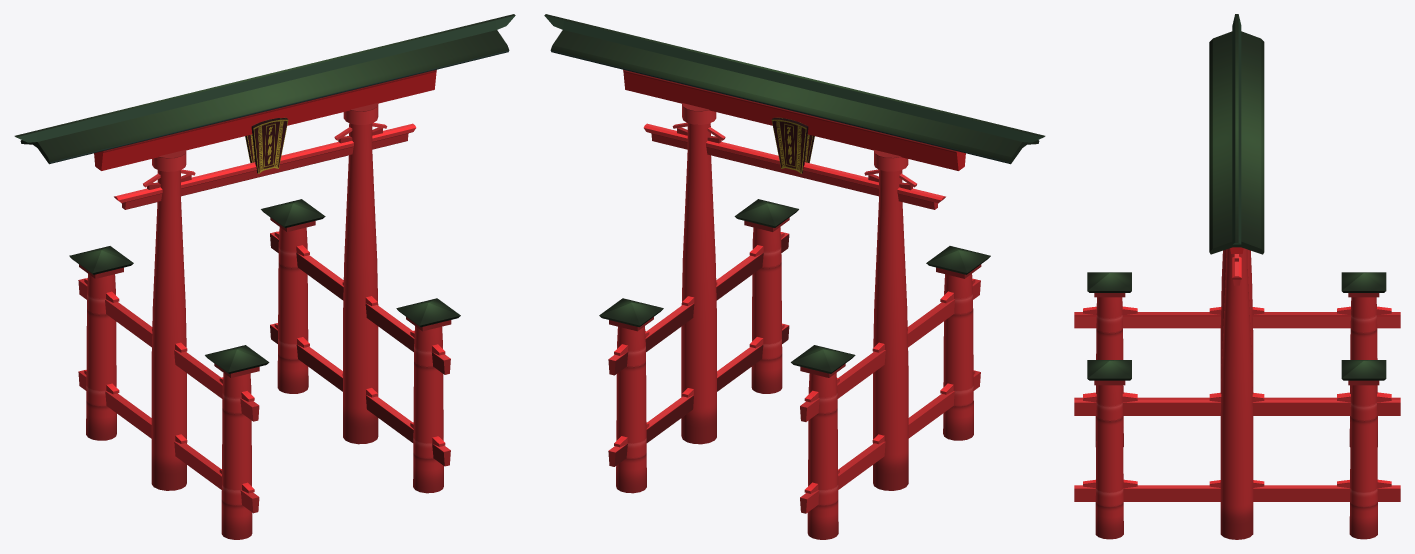
Rendered from japanese_archway.fbx.
The picture shows the model from 3 angles, left to right: view 1: azimuth 30°, elevation 25°; view 2: azimuth 150°, elevation 25°; view 3: azimuth 270°, elevation 25°; orthographic projection. The views are drawn at different scales.
Parts seen in each view (by area): view 1: archway; view 2: archway; view 3: archway.
Part boxes in pixels (box(x1,y1,x2,y2)): archway: box(14, 14, 515, 539); archway: box(544, 14, 1045, 539); archway: box(1074, 14, 1400, 539).
Bounding box in the file's own units: 9.57 × 7.04 × 5.77.
